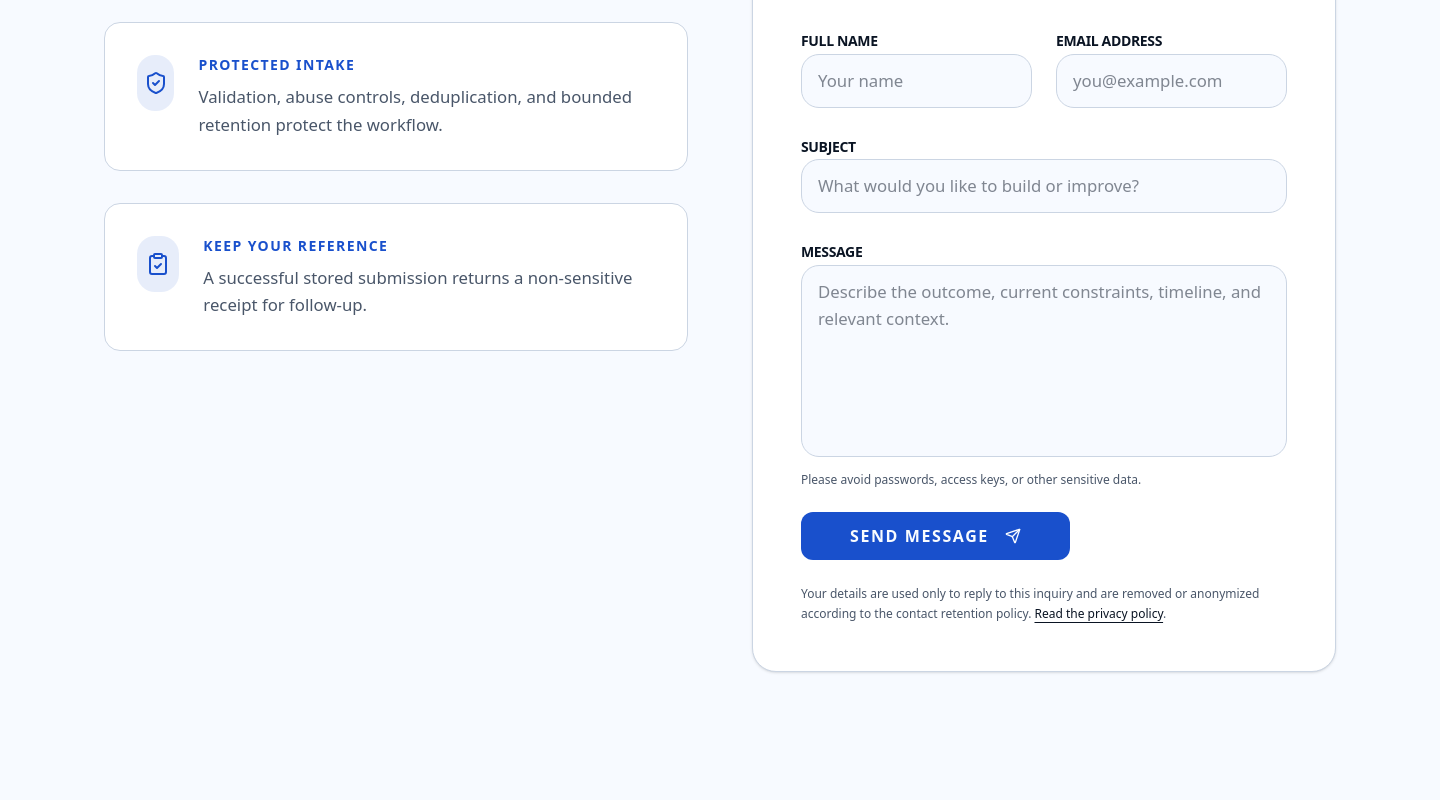
ContactContentSection › exposes client validation errors without making a request
(page scrolled)
Click the button "Send Message" at (935, 536), box [801,512,1070,560]
(page scrolled)
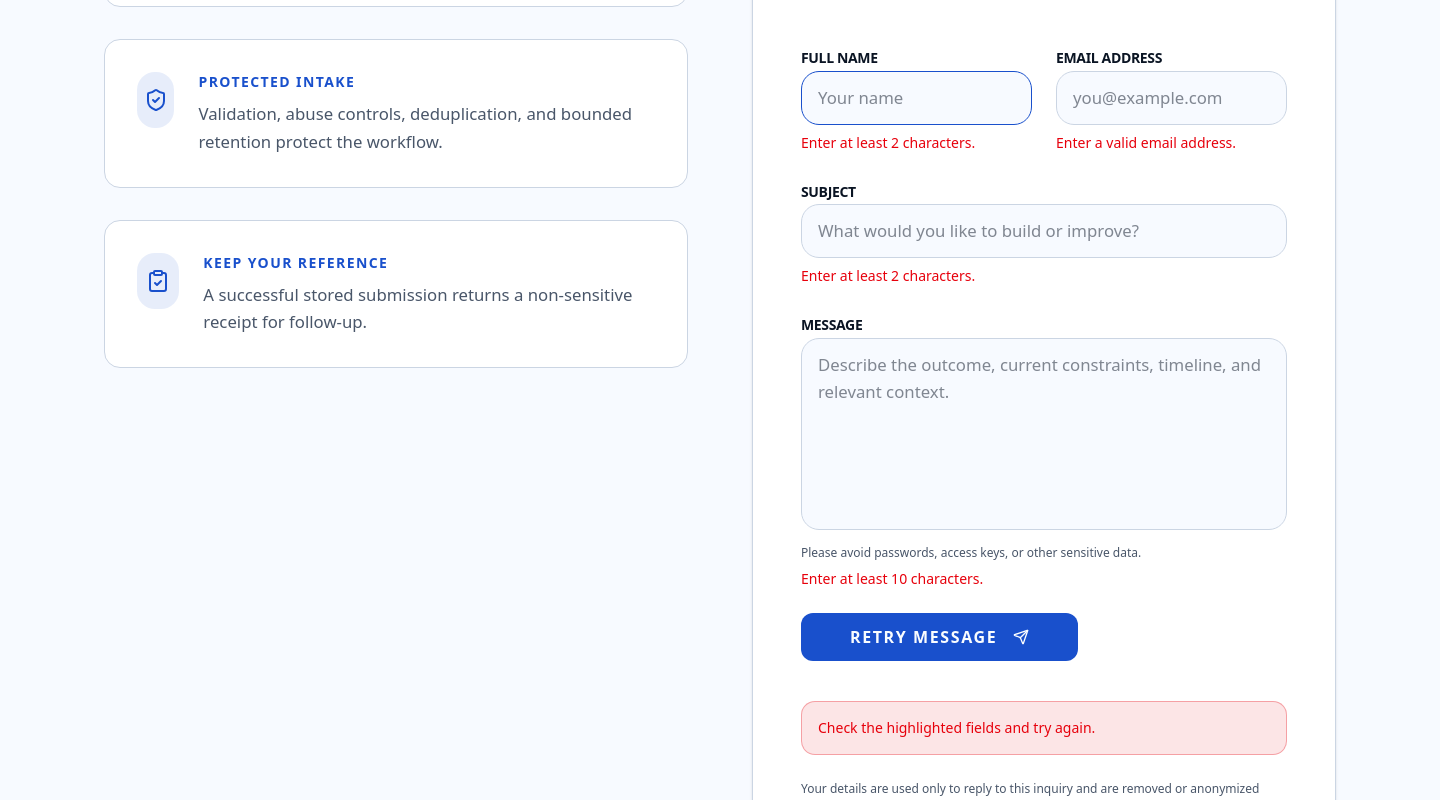
Expected: the message shows "Check the highlighted fields", [818,718,1095,737]
